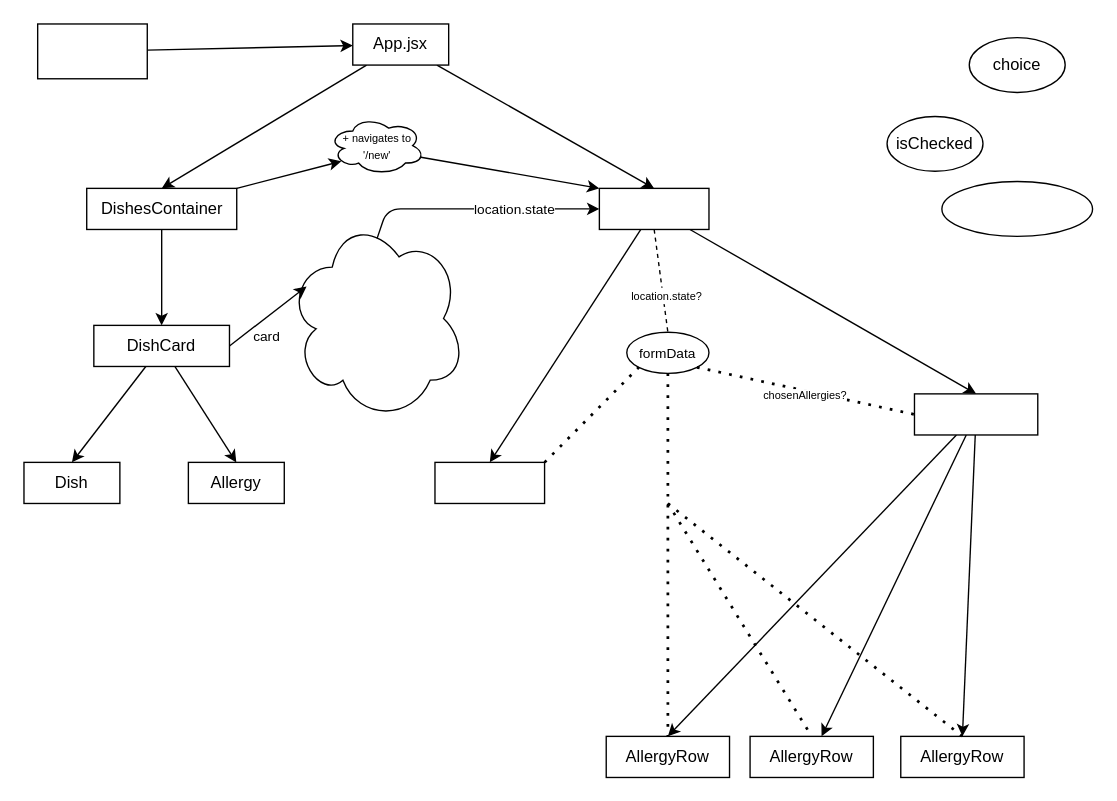
Image size: 1117x801. Some labels were removed from this diagram. Here are the shapes that lost their labels. From the top down, the box of each, then its label:
(36, 23, 147, 79): index.js
(598, 187, 709, 229): Form
(941, 180, 1093, 236): allergiesFromDb
(286, 214, 466, 421): updateBtn navigates to '/update' and sends { cardObj } used to populate formData
(913, 393, 1038, 435): AllergyForm
(434, 461, 545, 503): DishForm
